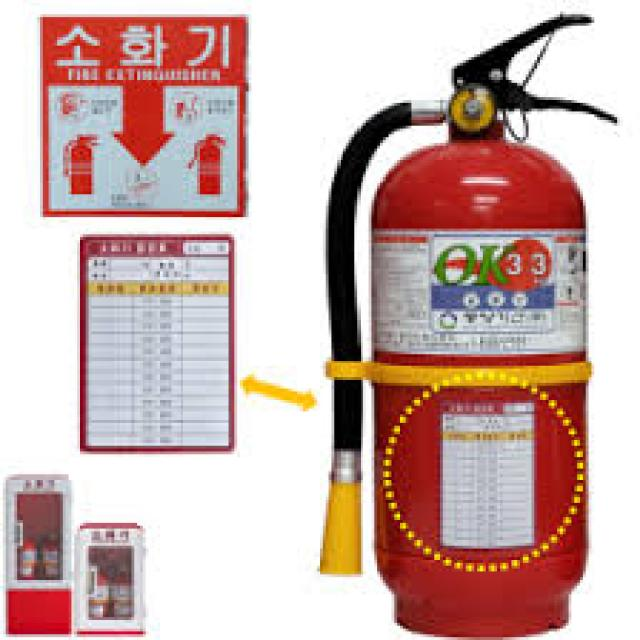pressure gauge: (451, 86, 494, 131)
